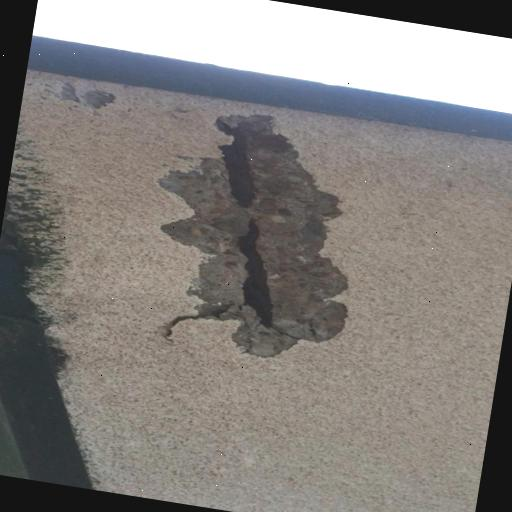spalling: (124, 77, 392, 389)
